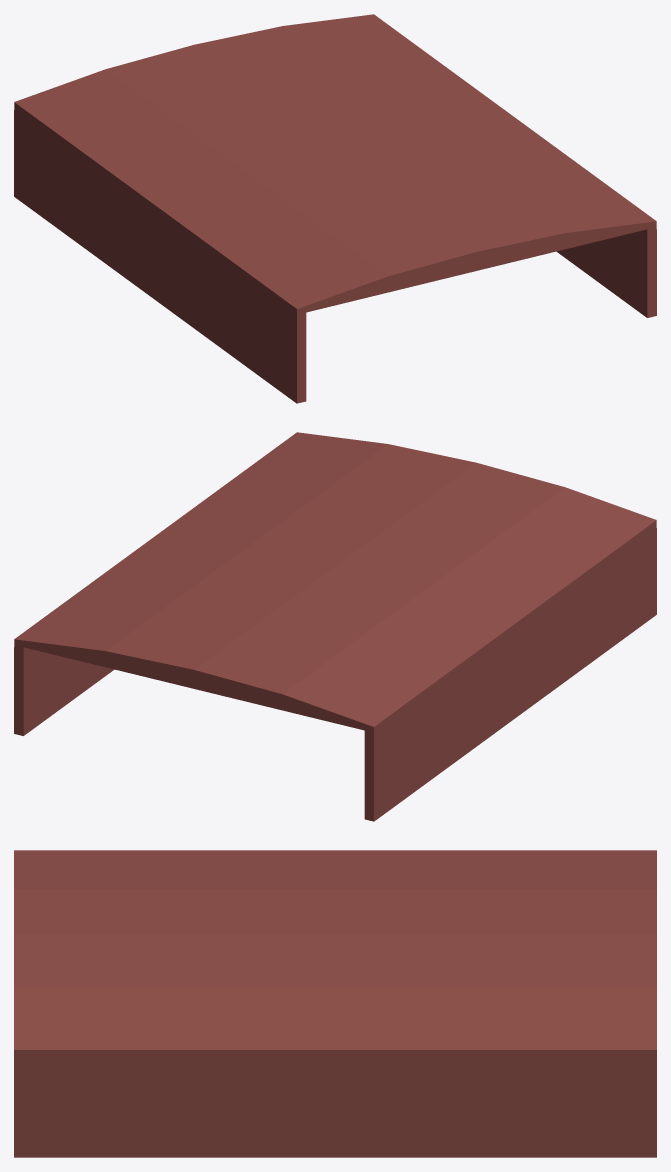
Rendered from Itr_Bed_Single_Blanket_08.FBX.
The picture shows the model from 3 angles, top to bottom: view 1: azimuth 30°, elevation 25°; view 2: azimuth 150°, elevation 25°; view 3: azimuth 270°, elevation 25°; orthographic projection. The views are drawn at different scales.
Parts seen in each view (by area): view 1: Itr_Bed_Single_Blanket_08; view 2: Itr_Bed_Single_Blanket_08; view 3: Itr_Bed_Single_Blanket_08.
Boxes of the visible parts, bbox=[...] form: Itr_Bed_Single_Blanket_08: bbox=[14, 14, 656, 403]; Itr_Bed_Single_Blanket_08: bbox=[14, 432, 656, 821]; Itr_Bed_Single_Blanket_08: bbox=[14, 850, 656, 1157].
Bounding box in the file's own units: 47.68 × 13.65 × 64.86.
